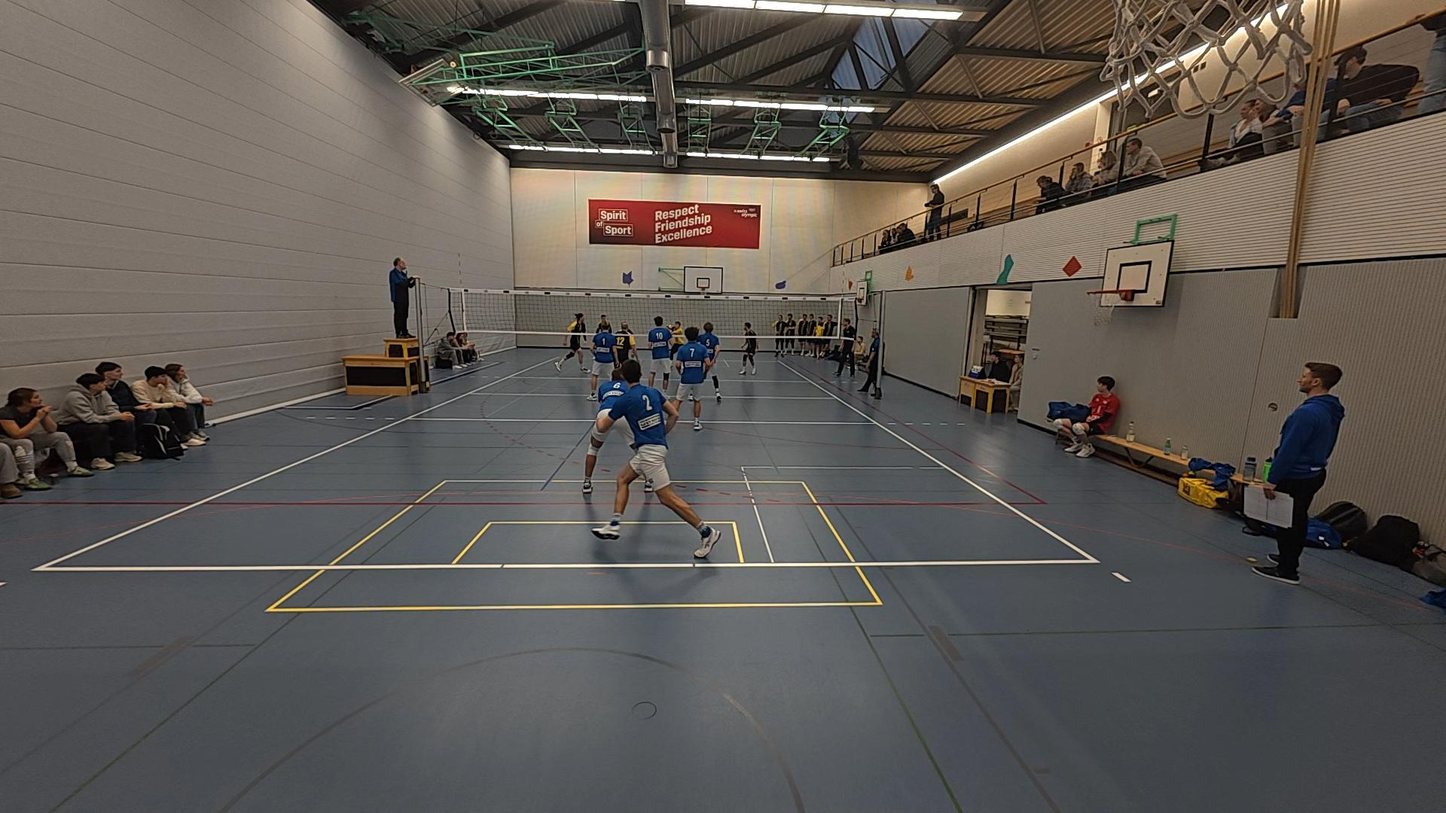Player: (589, 361, 718, 559), (581, 361, 671, 495), (672, 326, 715, 431), (586, 318, 617, 402), (646, 316, 674, 391), (611, 321, 639, 388), (557, 312, 587, 371), (699, 321, 722, 388), (736, 320, 759, 376)
Receive: (666, 320, 688, 368), (664, 322, 674, 331)
ball: (901, 264, 917, 281)
